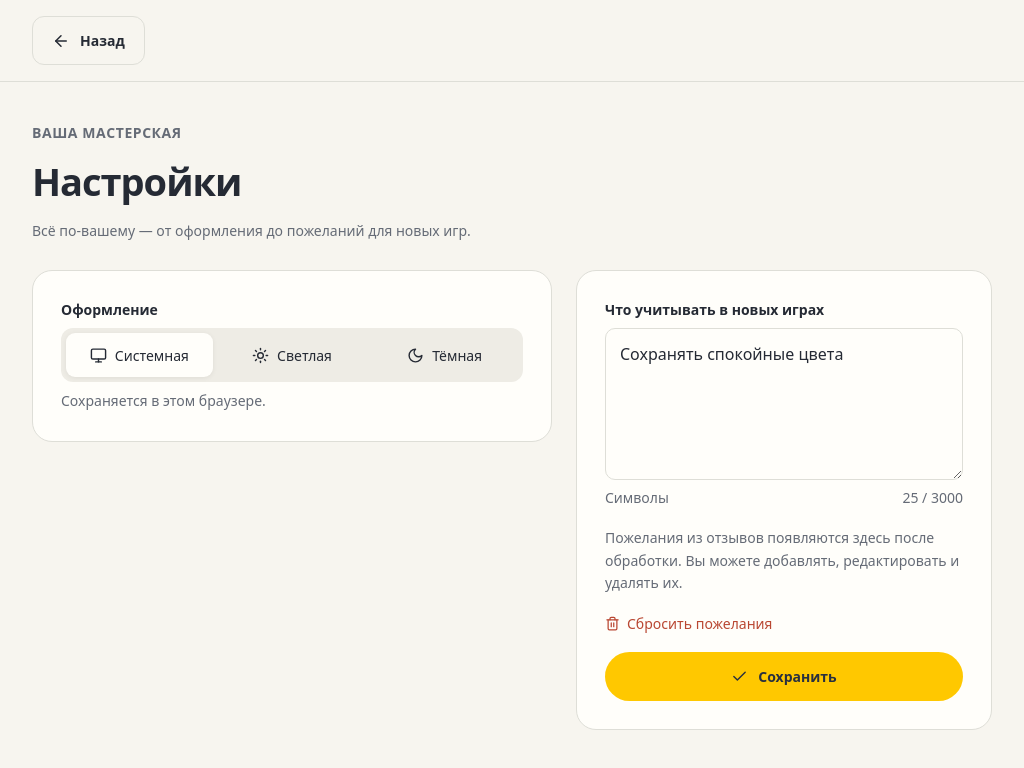
applies theme immediately and only sends notes on Save without closing the page
Click the button "Тёмная".
click(445, 355)  # box [371, 333, 518, 377]
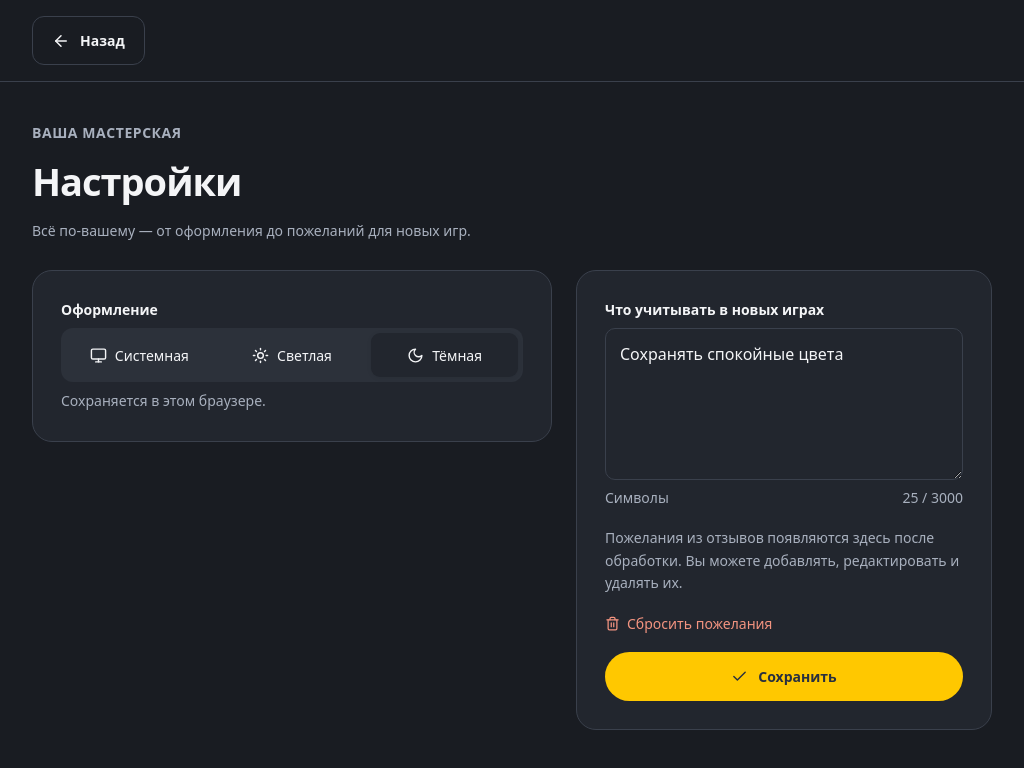
Replace the text in the text box labelled "Что учитывать в новых играх" with "Крупное управление" at {"x": 784, "y": 404}, box [605, 328, 963, 480]
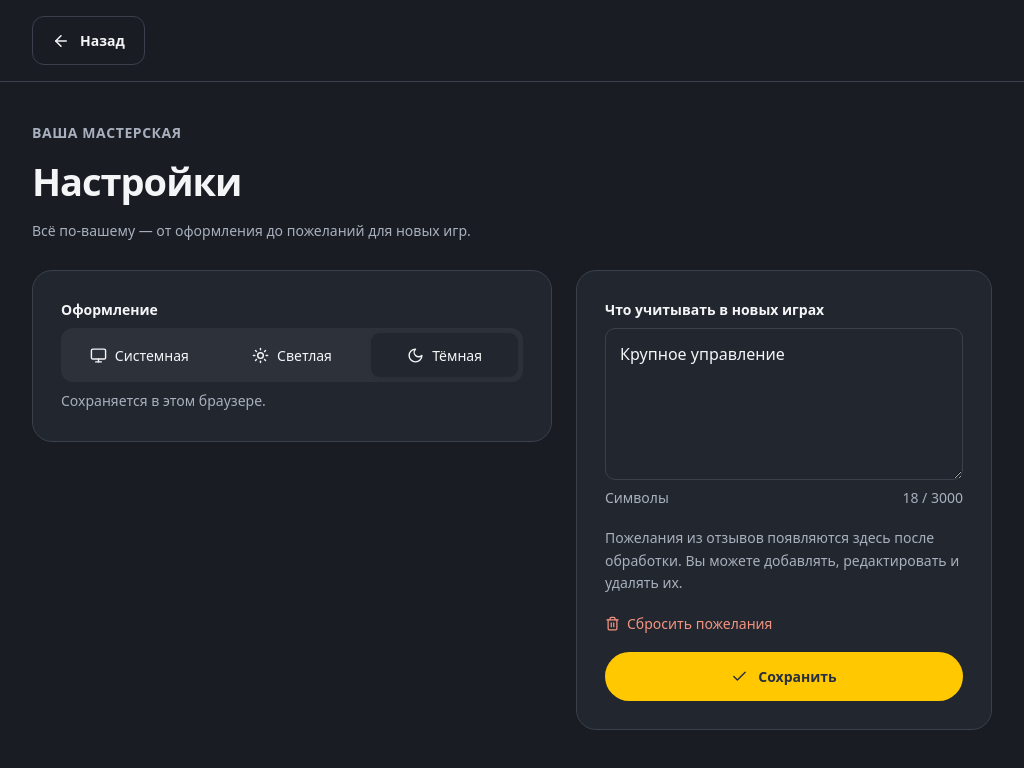
Click the button "Сохранить".
click(784, 676)  # box [605, 652, 963, 701]
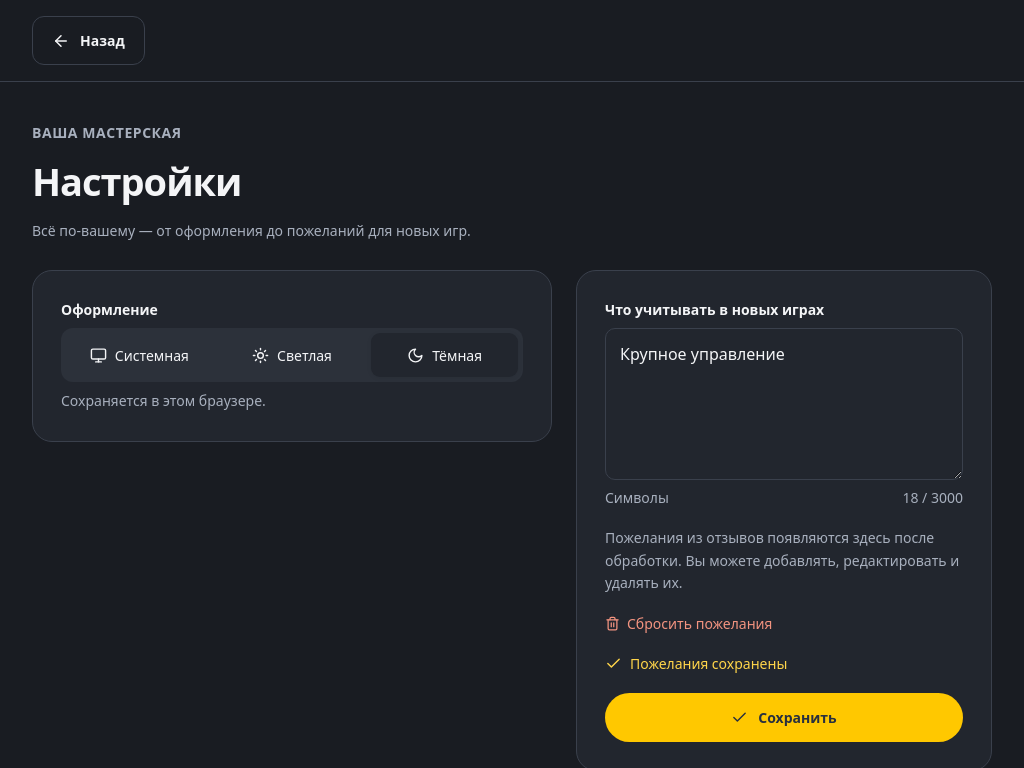
Expected: the heading "Настройки" is shown, [32, 155, 241, 207]
Expected: the message "Пожелания сохранены" is shown, [605, 654, 787, 673]
Expected: the message reads "Пожелания сохранены", [630, 654, 787, 673]
Click the button "Светлая".
click(292, 355)  # box [219, 333, 365, 377]
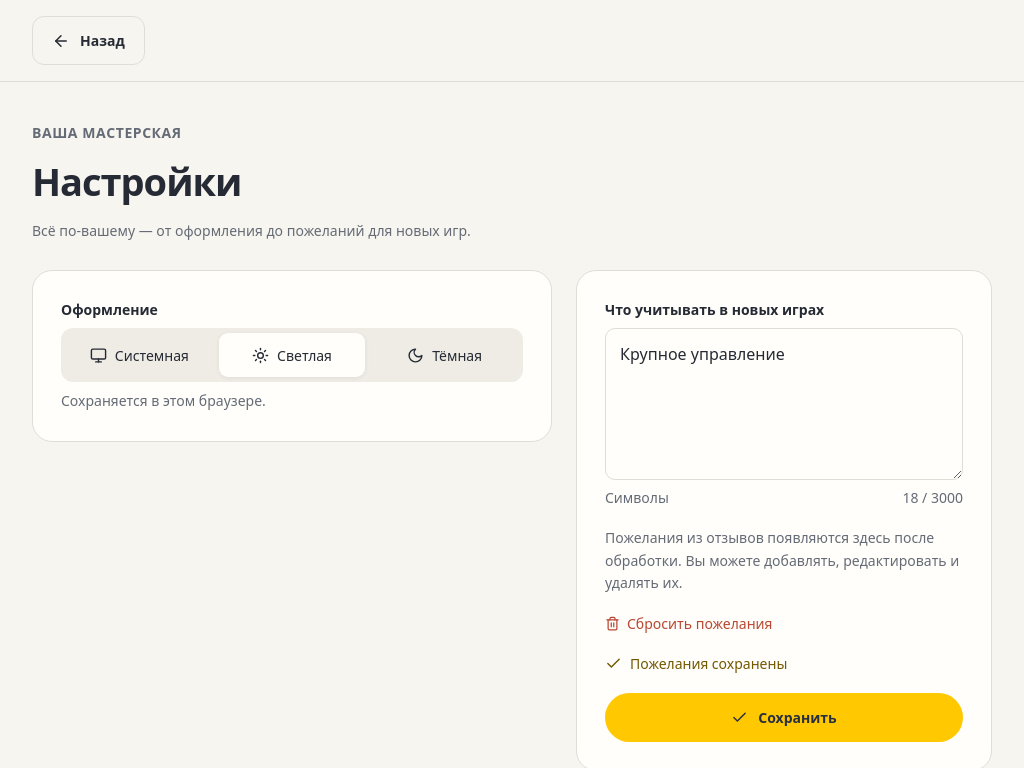
Expected: the message reads "Пожелания сохранены", [630, 654, 787, 673]
Replace the text in the text box labelled "Что учитывать в новых играх" with "Ещё одна правка" at {"x": 784, "y": 404}, box [605, 328, 963, 480]
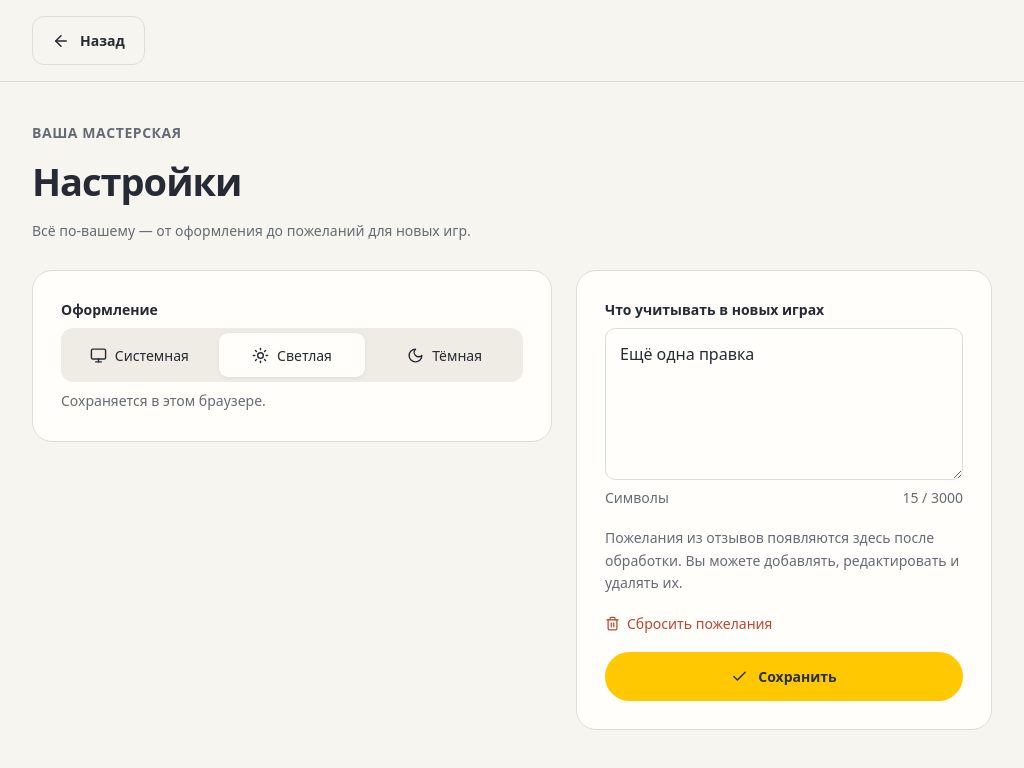
Expected: the message "Пожелания сохранены" is gone
